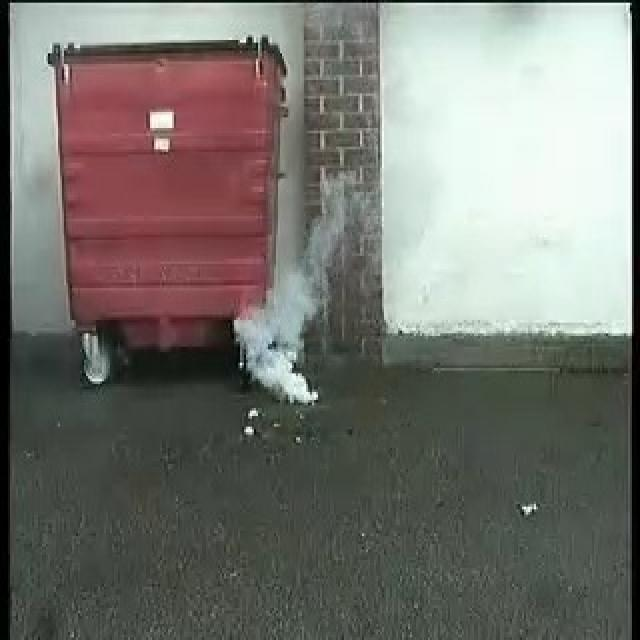smoke: (235, 165, 356, 398)
